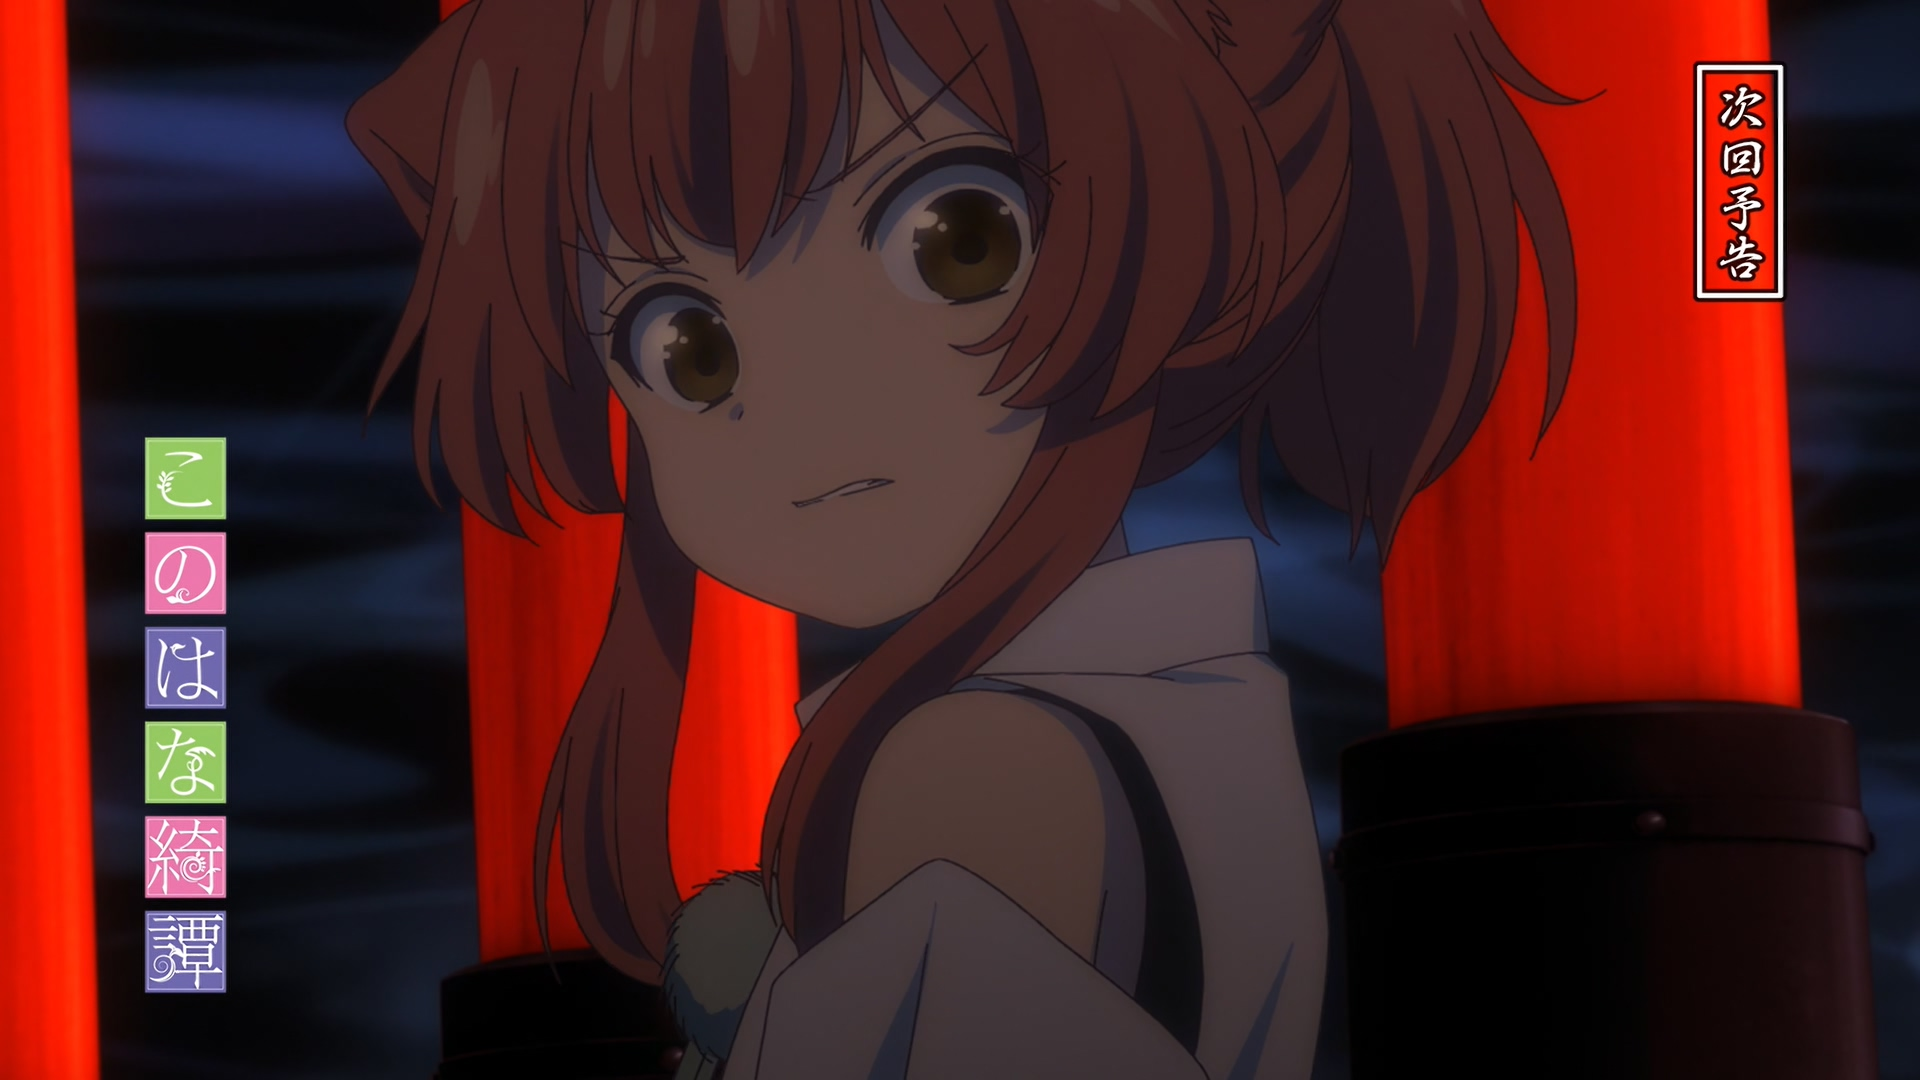椿: (348, 1, 1609, 1080)
